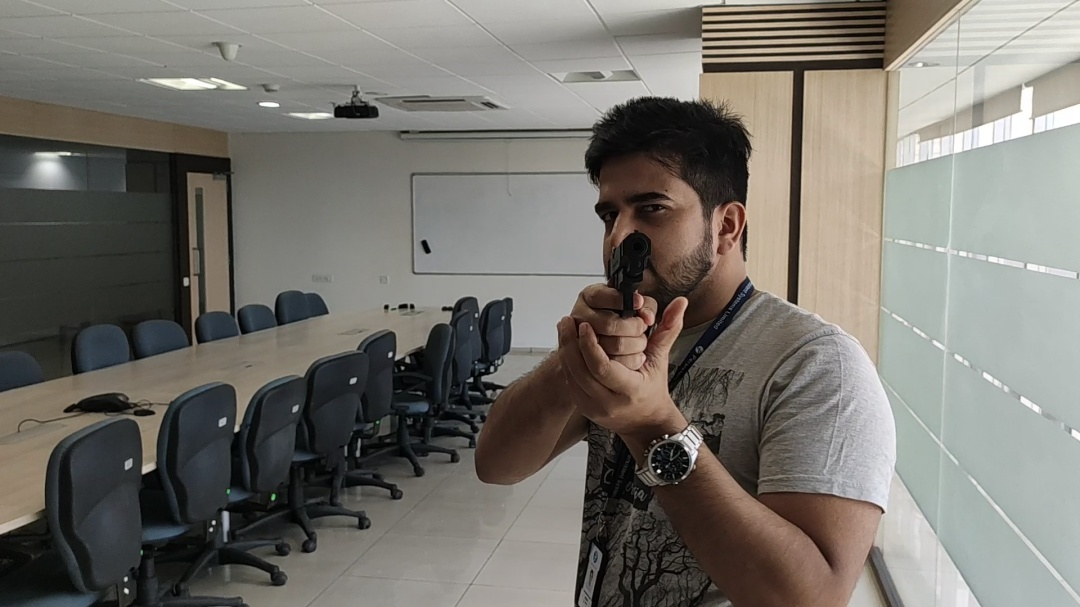gun: (413, 91, 833, 569)
